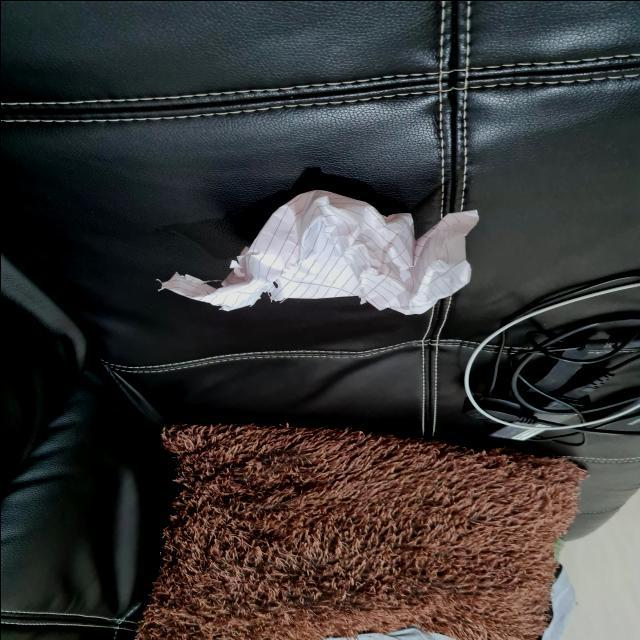Paper: (161, 189, 484, 351)
